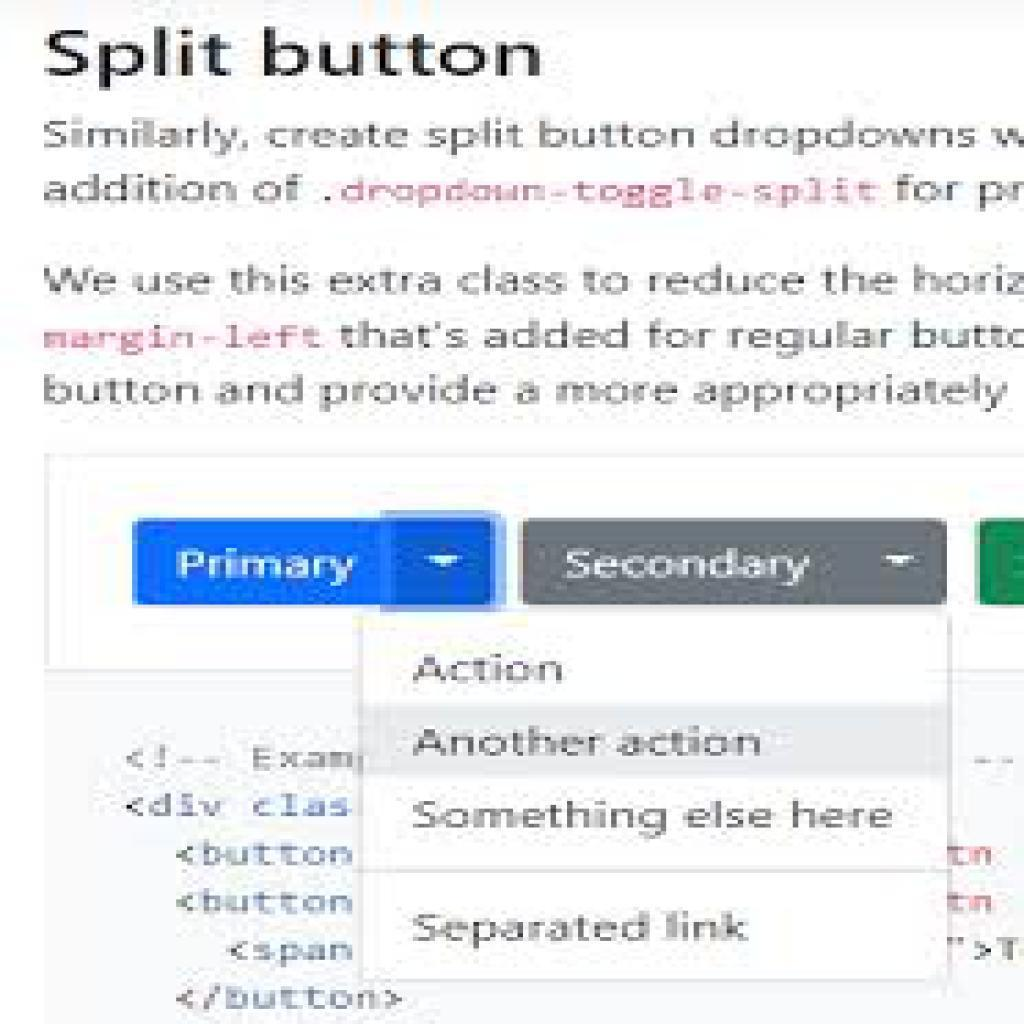dropdown: (523, 519, 946, 599), (135, 522, 498, 606)
